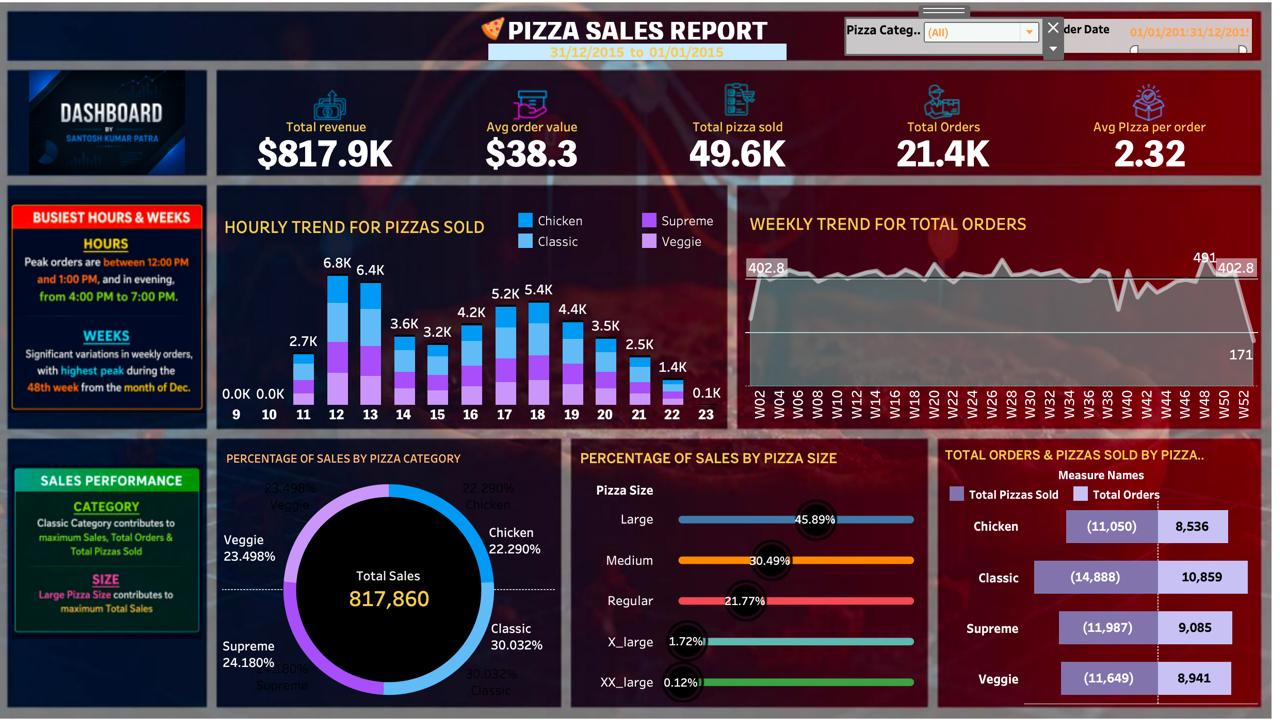

This screenshot's page, from the dashboard's own definition file:
{"tool":"tableau","page":{"name":"HOME","canvas":[1000,1000],"units":"permille","ordinal":0},"visuals":[{"type":"image","param":"/Users/santoshpatra/Downloads/WhatsApp Image 2026-07-28 at 13.51.39.jpeg","box":[6.4,10.8,987.3,978.5]},{"type":"image","param":"/Users/santoshpatra/Downloads/pizza-slice.png","box":[377.3,52.4,28.6,30.9]},{"type":"filter","title":"Sheet 2","param":"[federated.0vcod581tafy141f0lbpv1l0i050].[none:pizza_category:nk]","box":[663.2,55.1,150.9,45.7]},{"type":"filter","title":"Sheet 2","param":"[federated.0vcod581tafy141f0lbpv1l0i050].[none:order_date:qk]","box":[820.5,55.1,154.9,44.4]},{"type":"text","box":[400.3,59.1,224,22.9]},{"type":"worksheet","title":"Sheet 7","mark":"Automatic","box":[387.6,87.4,229.6,21.5]},{"type":"image","param":"/Users/santoshpatra/Downloads/ChatGPT Image Jul 28, 2026, 06_49_17 PM.png","box":[18.3,122.3,151.7,135.8]},{"type":"image","param":"/Users/santoshpatra/Downloads/order-delivery.png","box":[567.1,138.4,28.6,43]},{"type":"image","param":"/Users/santoshpatra/Downloads/delivery-man.png","box":[714.9,139.8,44.5,47]},{"type":"image","param":"/Users/santoshpatra/Downloads/order (1).png","box":[878.5,139.8,35.7,48.4]},{"type":"image","param":"/Users/santoshpatra/Downloads/shipping-box.png","box":[401.1,142.5,37.3,49.7]},{"type":"image","param":"/Users/santoshpatra/Downloads/profit-growth.png","box":[244.6,143.8,42.1,47]},{"type":"worksheet","title":"Sheet 1","mark":"Automatic","box":[183.5,181.5,792.7,73.9]},{"type":"image","param":"/Users/santoshpatra/Downloads/WhatsApp Image 2026-07-28 at 16.10.38.jpeg","box":[18.3,271.5,151.7,317.2]},{"type":"worksheet","title":"Sheet 3","mark":"Area","rows":["Calculation_2396413613711361","Calculation_2396413613711361"],"cols":["order_date"],"box":[585.4,300.7,394.8,276.6]},{"type":"legend","title":"Sheet 2","param":"[federated.0vcod581tafy141f0lbpv1l0i050].[none:pizza_category:nk]","box":[408.3,303.1,162.8,78.5]},{"type":"worksheet","title":"Sheet 2","mark":"Bar","rows":["Calculation_2396413614075907","Calculation_2396413614075907"],"cols":["order_time"],"box":[181.1,305.6,387.6,279]},{"type":"image","param":"/Users/santoshpatra/Downloads/WhatsApp Image 2026-07-28 at 16.10.56.jpeg","box":[20.7,506.7,146.9,486.6]},{"type":"text","box":[737.1,603.5,202.5,40.3]},{"type":"worksheet","title":"Sheet 4","mark":"Pie","rows":["Calculation_2396413634969606","Calculation_2396413634998280"],"box":[182.7,611.6,256.6,333.3]},{"type":"worksheet","title":"Sheet 5","mark":"Line","rows":["pizza_size"],"box":[455.1,611.6,268.5,333.3]},{"type":"legend","title":"Sheet 6","param":"[federated.0vcod581tafy141f0lbpv1l0i050].[:Measure Names]","box":[740.3,638.4,238.3,55.1]},{"type":"worksheet","title":"Sheet 6","mark":"Automatic","rows":["pizza_category"],"box":[736.3,682.8,243.8,264.8]},{"type":"text","box":[386,705.6,61.2,57.8]},{"type":"text","box":[181.9,721.8,79.4,45.7]},{"type":"text","box":[387.6,837.4,79.4,45.7]},{"type":"text","box":[181.1,860.2,79.4,45.7]}]}

Visuals, with their boxes on the dashboard's canvas, which has no fixed pixel size, in thousandths of its width and height (x1, y1, x2, y2). These are canvas units, not pixel positions in the 1280x724 screenshot, which may show the page scaled, cropped or inside an application window:
image: locate(6, 11, 994, 989)
image: locate(377, 52, 406, 83)
"Sheet 2" filter: locate(663, 55, 814, 101)
"Sheet 2" filter: locate(820, 55, 975, 100)
text: locate(400, 59, 624, 82)
"Sheet 7" worksheet: locate(388, 87, 617, 109)
image: locate(18, 122, 170, 258)
image: locate(567, 138, 596, 181)
image: locate(715, 140, 759, 187)
image: locate(878, 140, 914, 188)
image: locate(401, 142, 438, 192)
image: locate(245, 144, 287, 191)
"Sheet 1" worksheet: locate(184, 182, 976, 255)
image: locate(18, 272, 170, 589)
"Sheet 3" worksheet (Area marks): locate(585, 301, 980, 577)
"Sheet 2" legend: locate(408, 303, 571, 382)
"Sheet 2" worksheet (Bar marks): locate(181, 306, 569, 585)
image: locate(21, 507, 168, 993)
text: locate(737, 604, 940, 644)
"Sheet 4" worksheet (Pie marks): locate(183, 612, 439, 945)
"Sheet 5" worksheet (Line marks): locate(455, 612, 724, 945)
"Sheet 6" legend: locate(740, 638, 979, 694)
"Sheet 6" worksheet: locate(736, 683, 980, 948)
text: locate(386, 706, 447, 763)
text: locate(182, 722, 261, 768)
text: locate(388, 837, 467, 883)
text: locate(181, 860, 260, 906)
